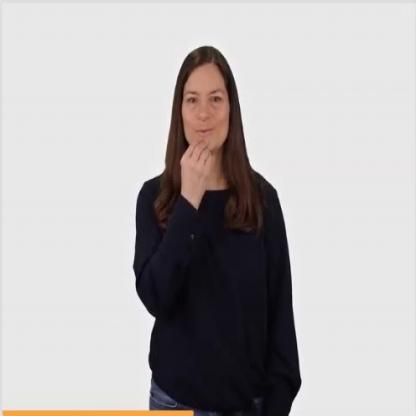Food: (133, 47, 302, 416)
